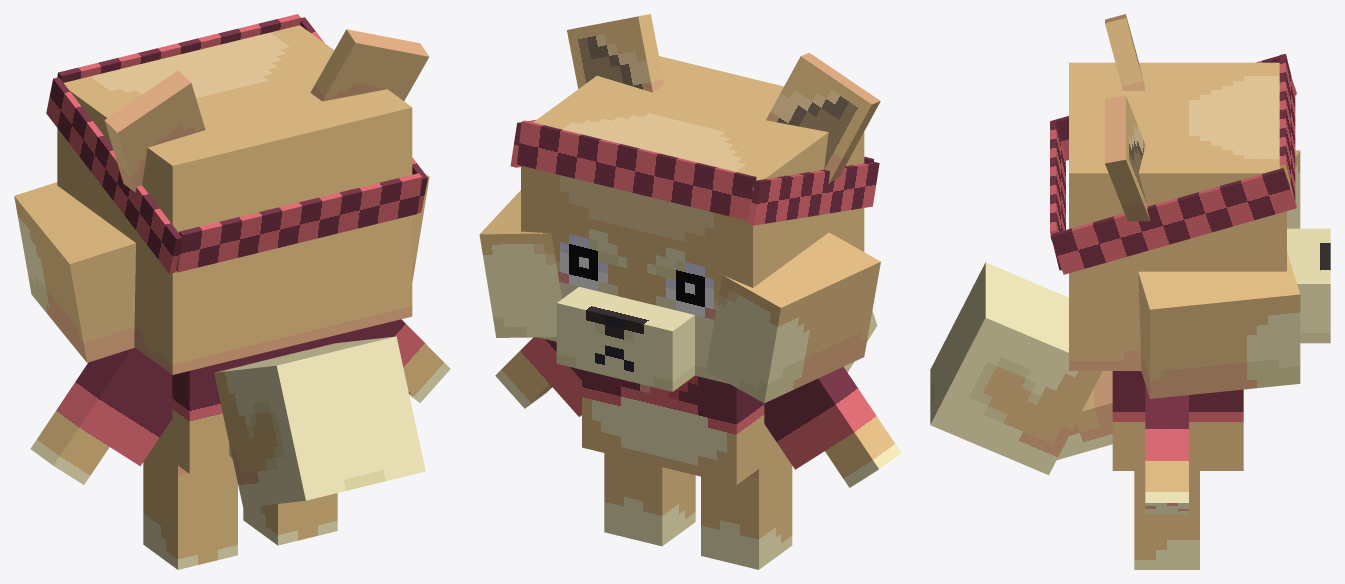
The model's file is Shiba.gltf.
3 views of the same model, side by side, from view 1: azimuth 30°, elevation 25°; view 2: azimuth 150°, elevation 25°; view 3: azimuth 270°, elevation 25° (orthographic). The views are drawn at different scales.
Visible parts, largest first — view 1: cube (×14); view 2: cube (×15); view 3: cube (×14).
Boxes of the visible parts, <box> form: cube (×14): <box>14,14,450,569</box>; cube (×15): <box>479,14,900,569</box>; cube (×14): <box>930,14,1330,569</box>.
Bounding box in the file's own units: 1.24 × 1.51 × 1.15.
1 material, 1 textured.
